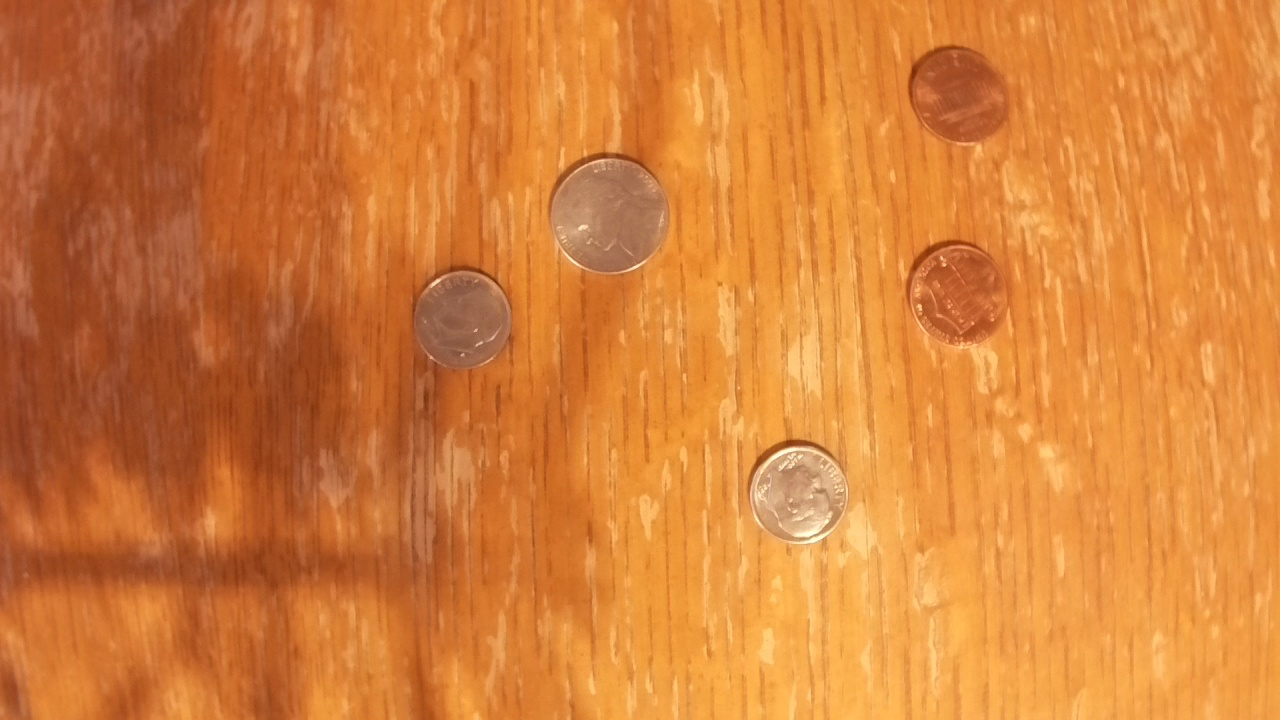dime: (748, 440, 848, 546), (414, 266, 512, 372)
nickel: (539, 152, 681, 278)
penny: (906, 42, 1010, 148), (906, 242, 1006, 348)
